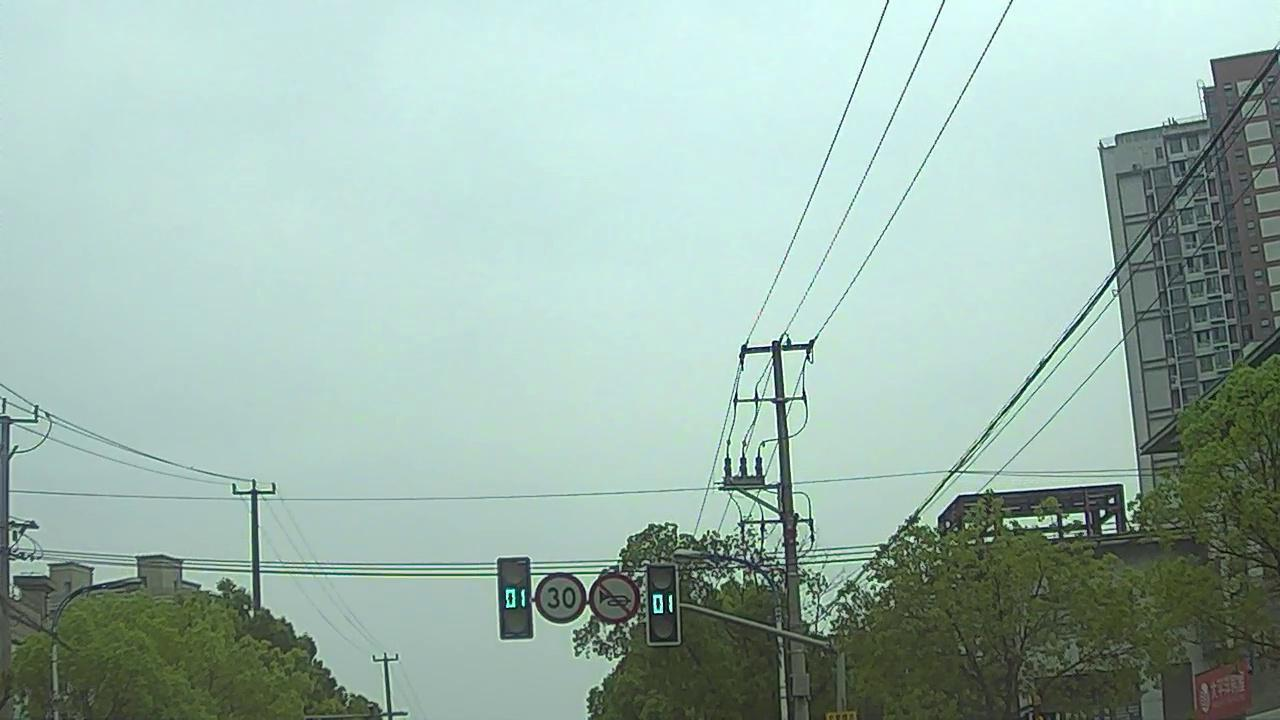traffic_light: (648, 567, 679, 643), (502, 561, 531, 637)
